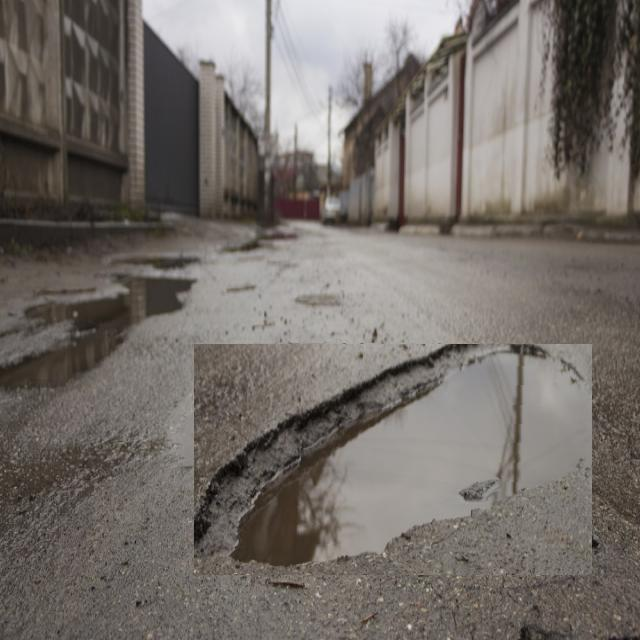Pothole: (194, 344, 592, 575)
